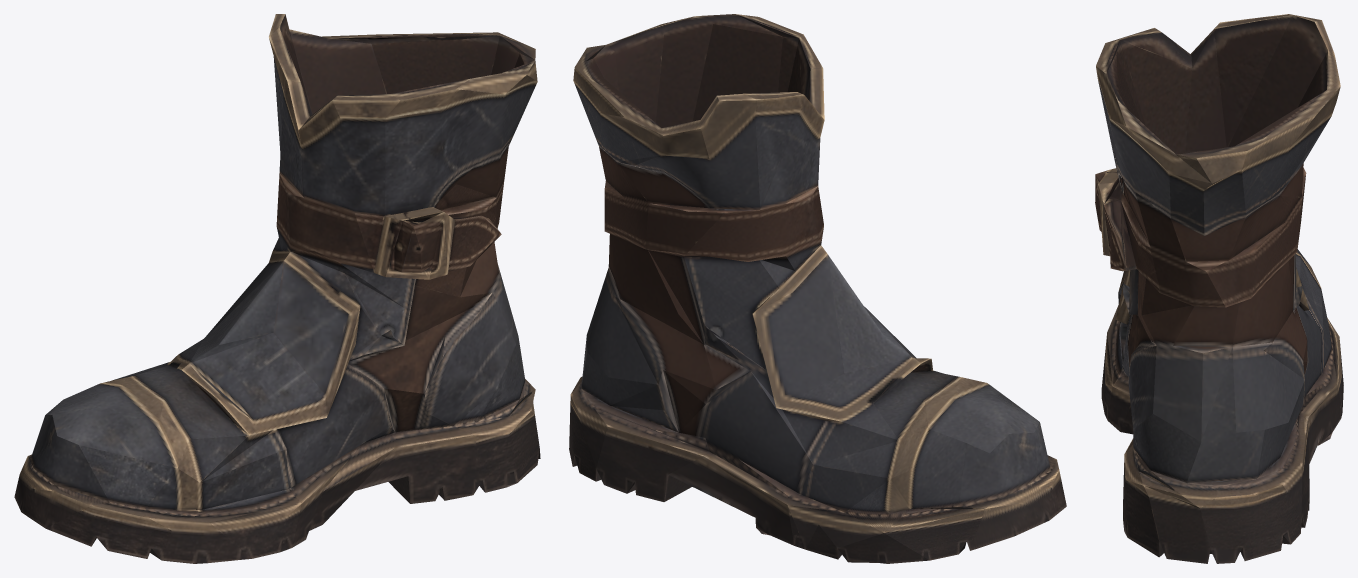
Rendered from SM_SharedGear_Boots.fbx.
The picture shows the model from 3 angles, left to right: view 1: azimuth 30°, elevation 25°; view 2: azimuth 150°, elevation 25°; view 3: azimuth 270°, elevation 25°; orthographic projection. The views are drawn at different scales.
Parts seen in each view (by area): view 1: SM_SharedGear_Boots; view 2: SM_SharedGear_Boots; view 3: SM_SharedGear_Boots.
Part boxes in pixels (<box>): SM_SharedGear_Boots: <box>14,14,540,563</box>; SM_SharedGear_Boots: <box>569,14,1066,563</box>; SM_SharedGear_Boots: <box>1095,14,1343,563</box>.
Bounding box in the file's own units: 44 × 37.12 × 18.67.
